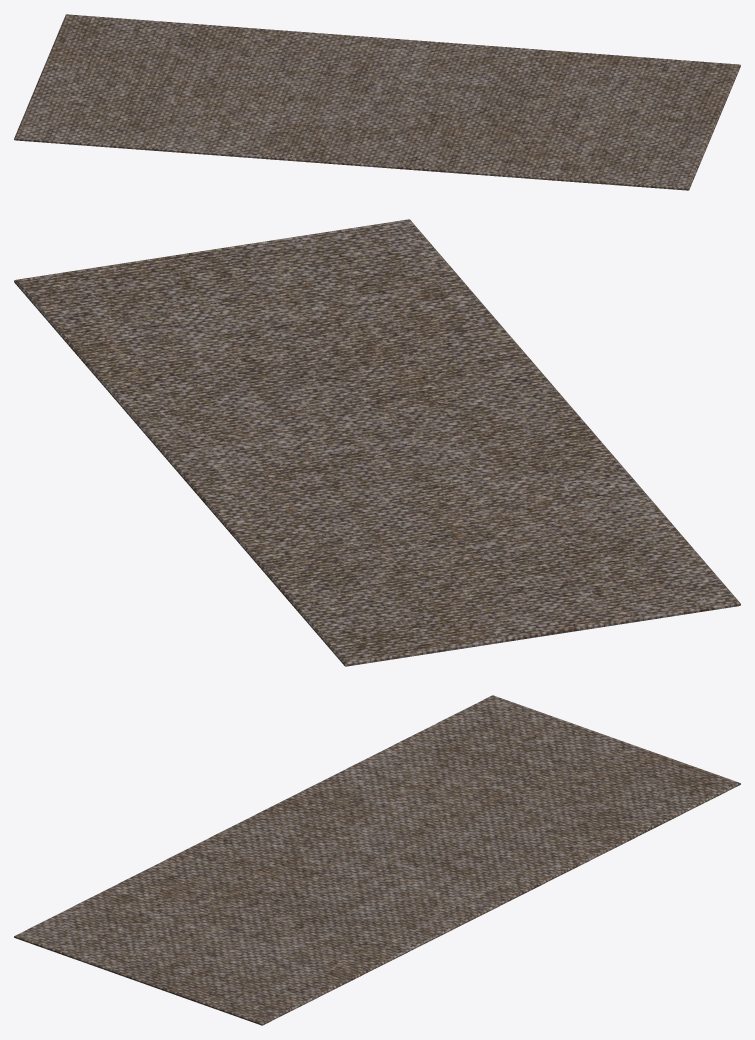
The model's file is simple_rug-optimized.glb.
The picture shows the model from 3 angles, top to bottom: view 1: azimuth 30°, elevation 25°; view 2: azimuth 150°, elevation 25°; view 3: azimuth 270°, elevation 25°; orthographic projection. The views are drawn at different scales.
Parts seen in each view (by area): view 1: Rug; view 2: Rug; view 3: Rug.
Boxes of the visible parts, bbox=[...] form: Rug: bbox=[14, 14, 740, 190]; Rug: bbox=[14, 219, 740, 666]; Rug: bbox=[14, 695, 740, 1025].
Bounding box in the file's own units: 14.46 × 0.0679 × 13.5.
Materials: 1 (1 with a texture image).
